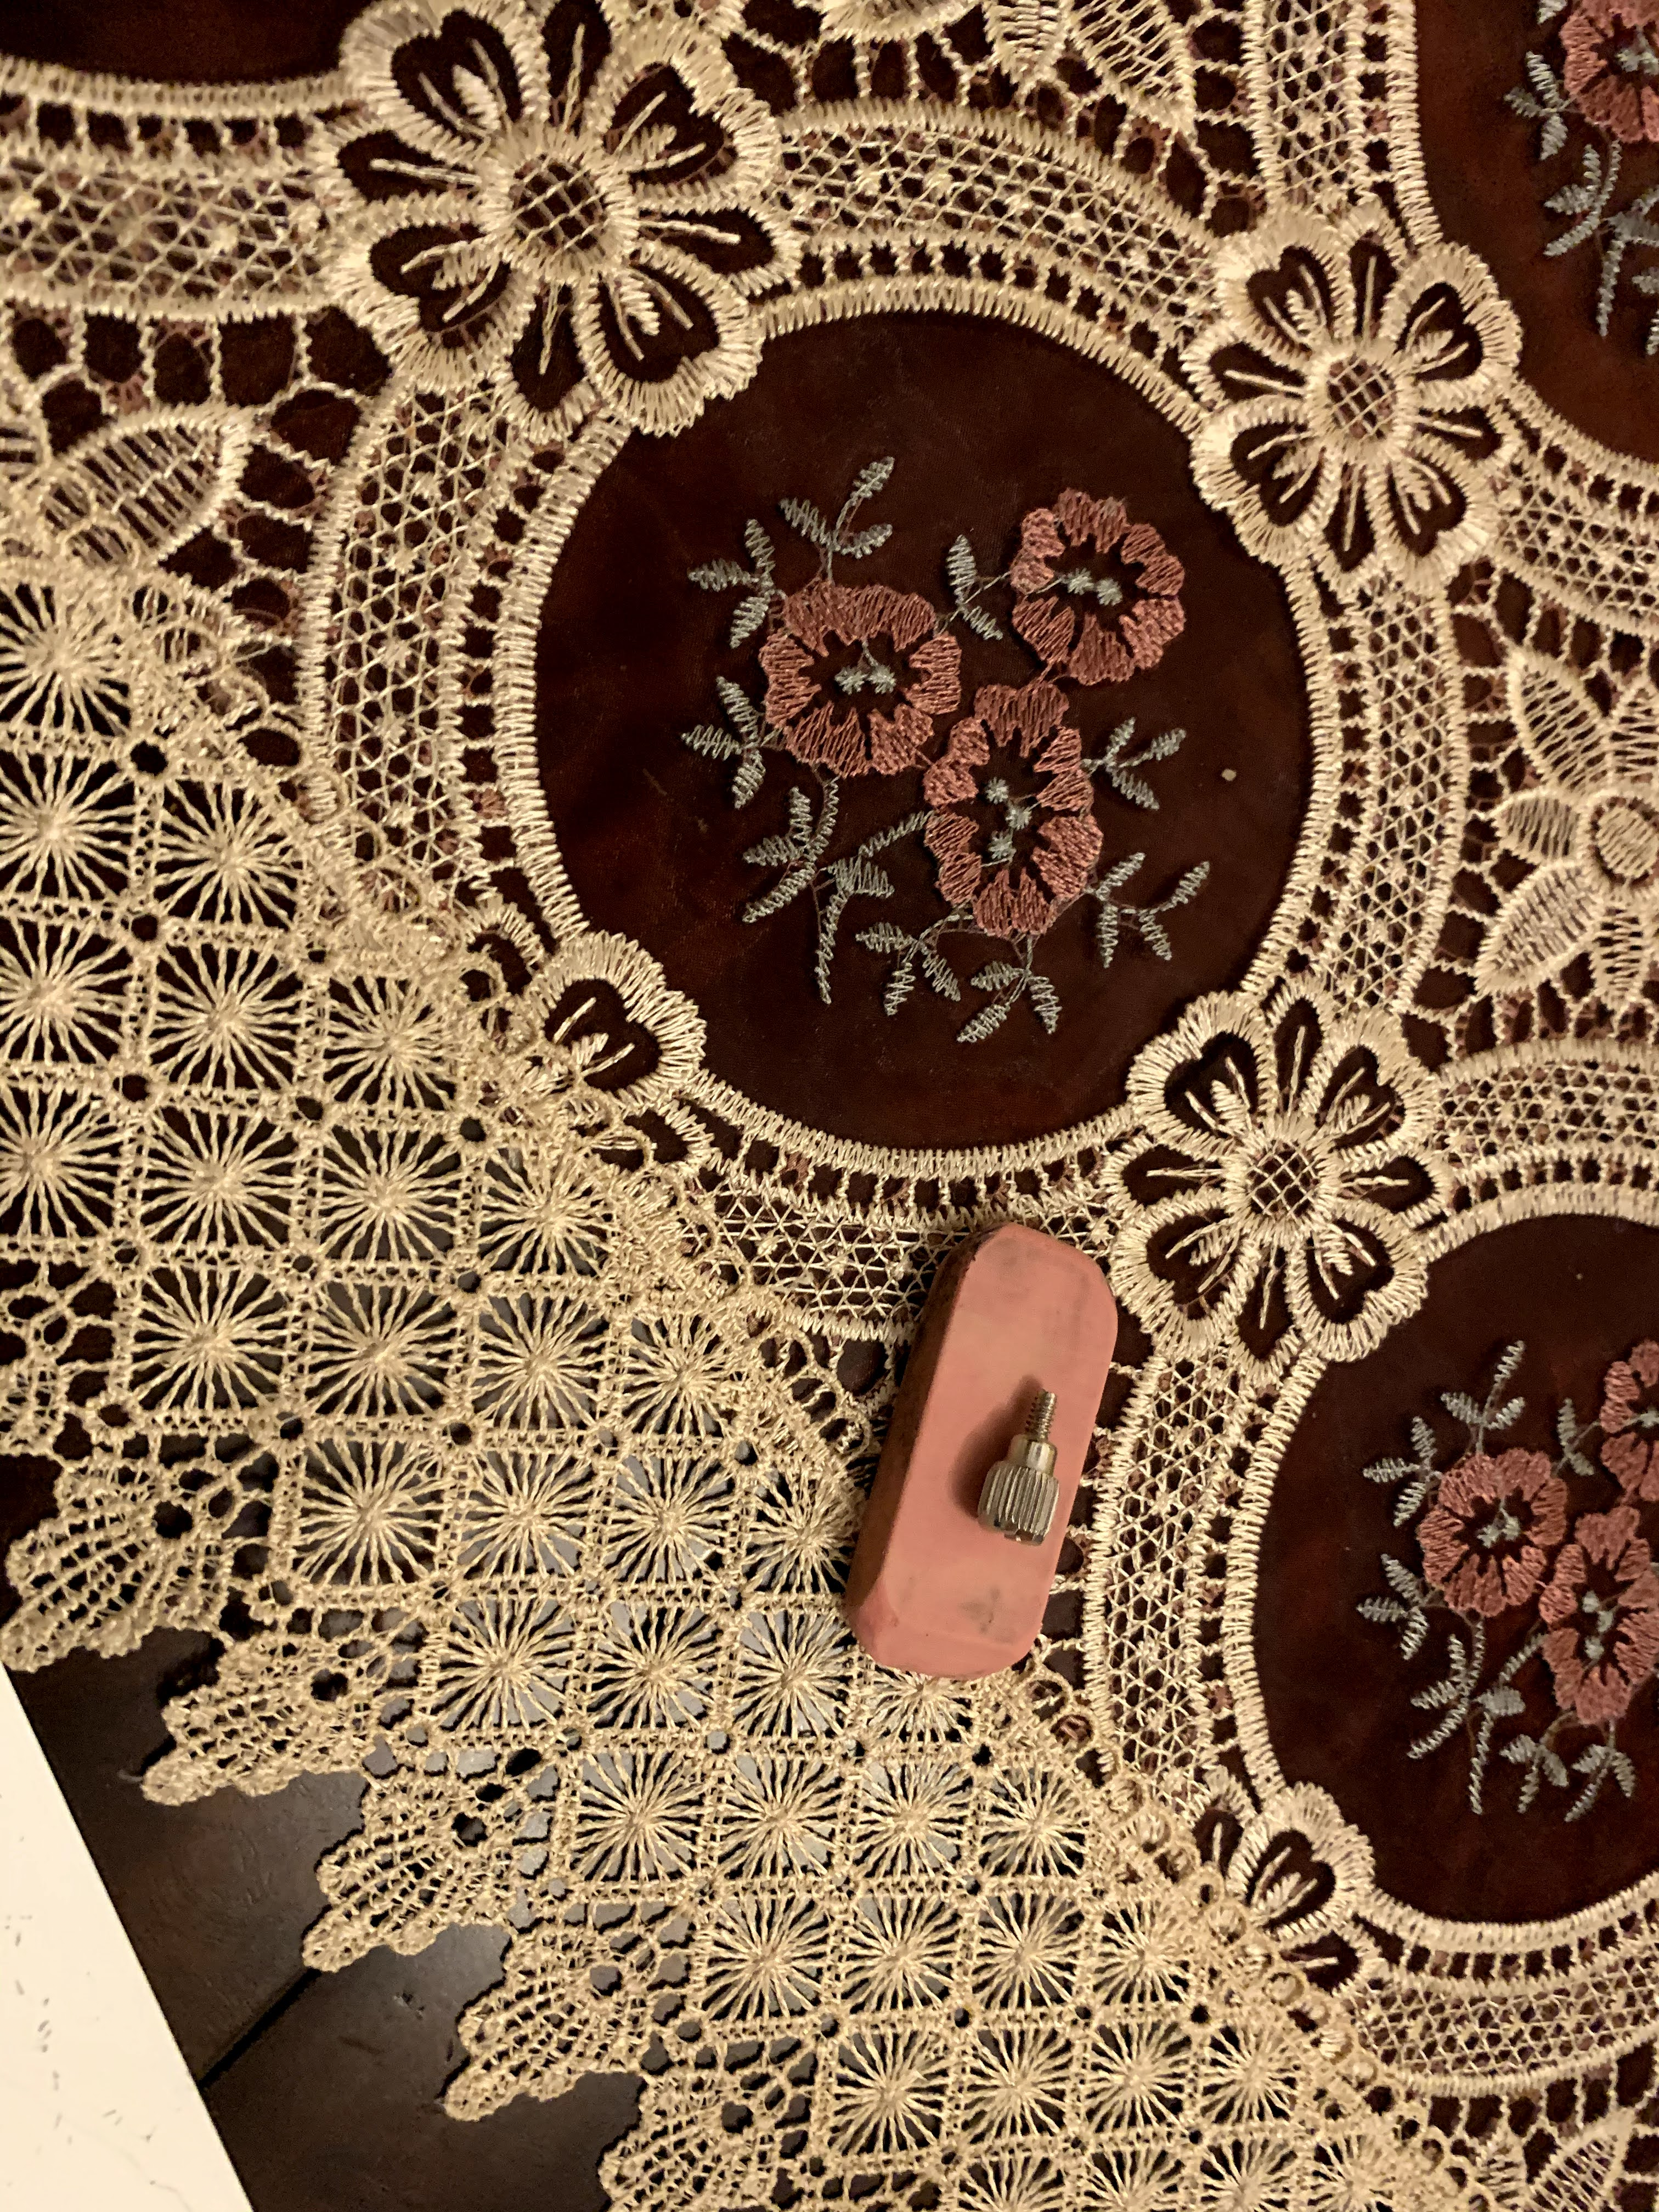Space-debris-small: (964, 1364, 1068, 1552)
